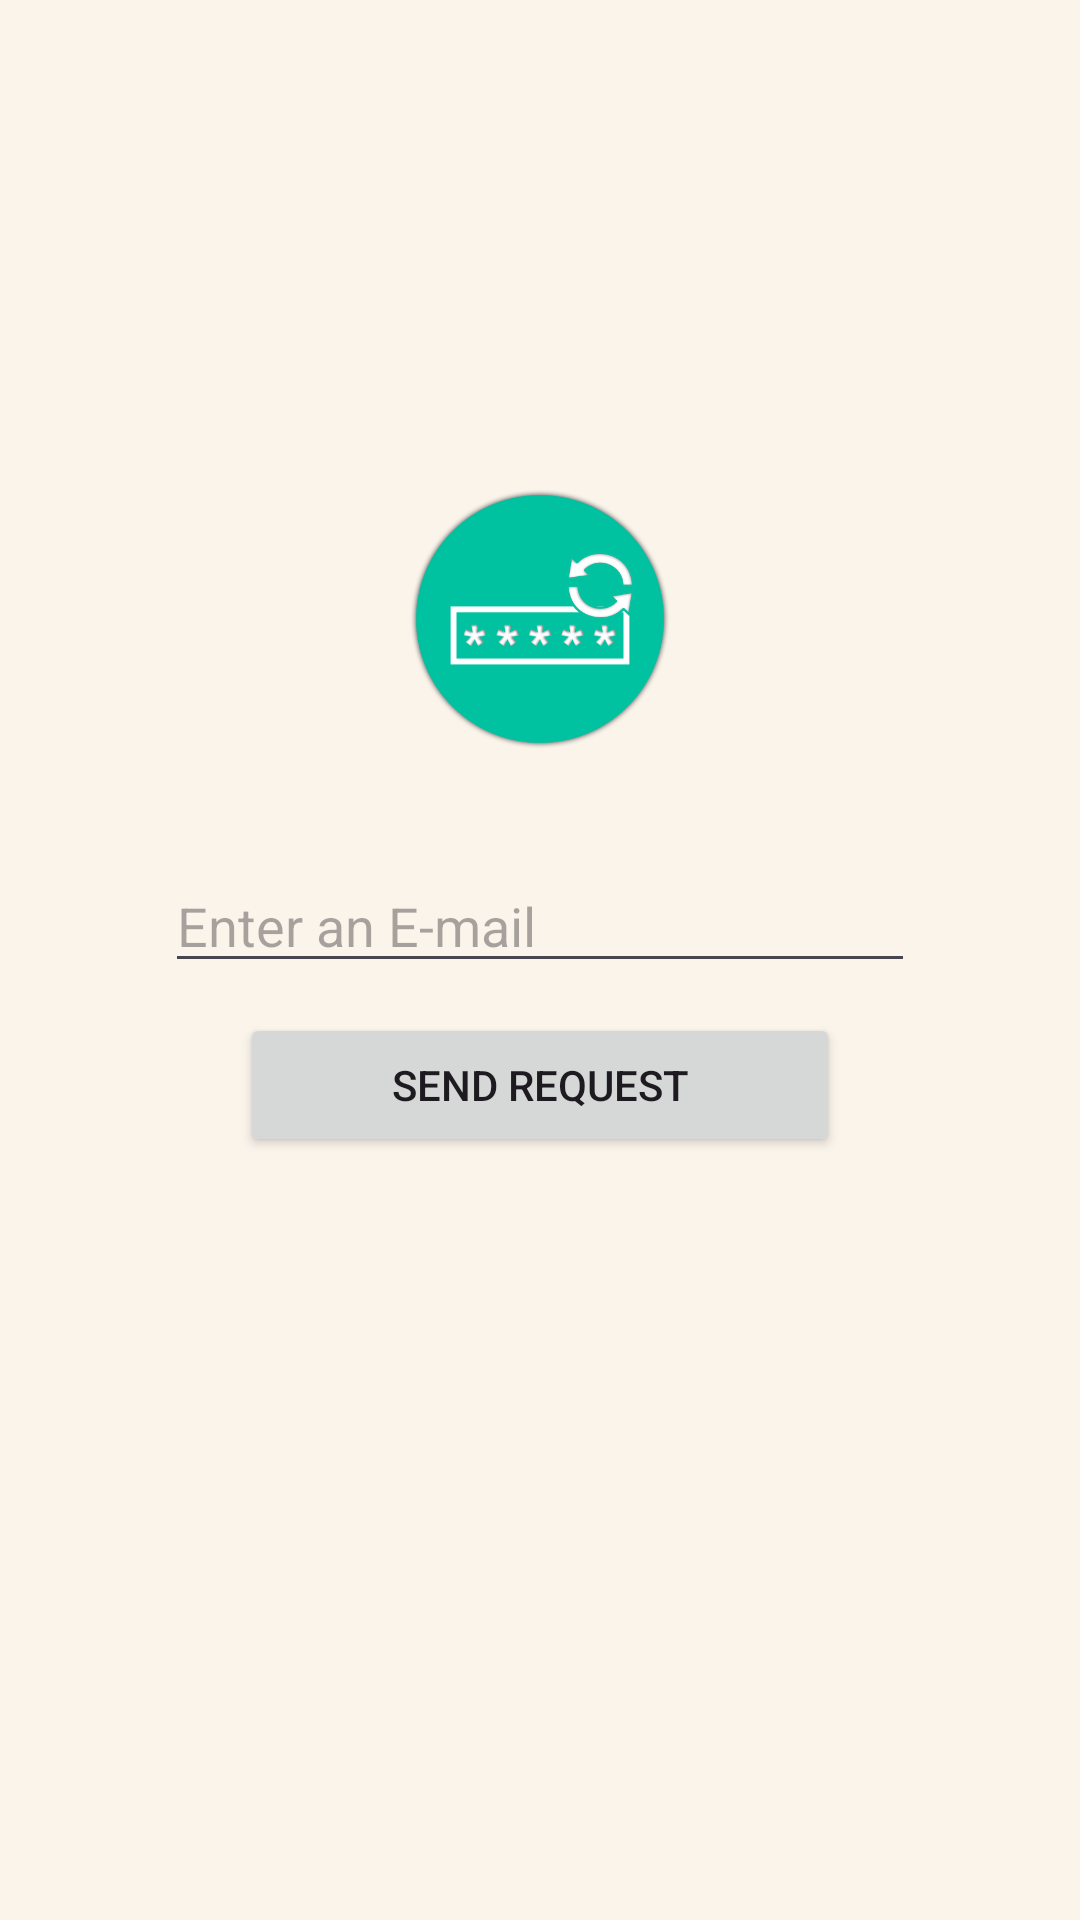

Named icons in this screenshot (1080w x 1920h) and their bounding boxes, (x1, y1, x2, y2):
reset pw: (413, 492, 667, 746)
